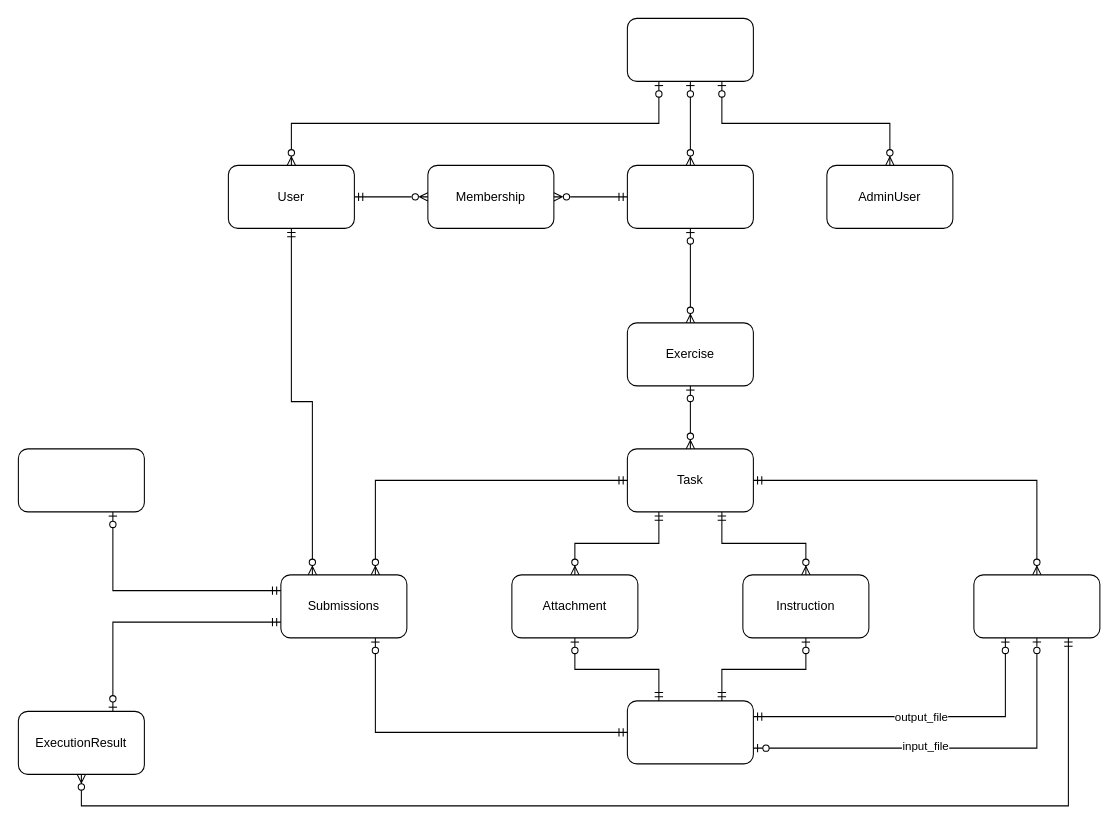
Some shapes in this 1118 by 834 pixel diagram are drawn without their labels. Here are the shapes that lost their labels. From the top down, the centre of each, then its label:
the point at 689,49: Profile
the point at 689,196: Subject
the point at 80,480: EvaluationResult
the point at 1036,606: TestCase
the point at 689,732: File
